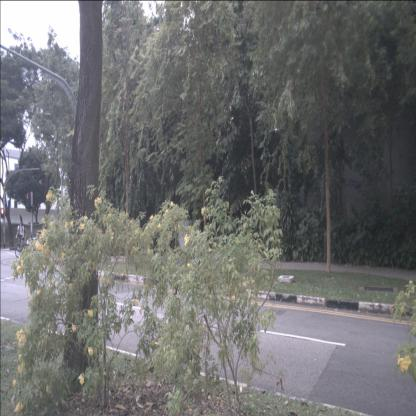vehicle-bicycle: (15, 214, 27, 257)
vehicle-car: (26, 230, 54, 251)
